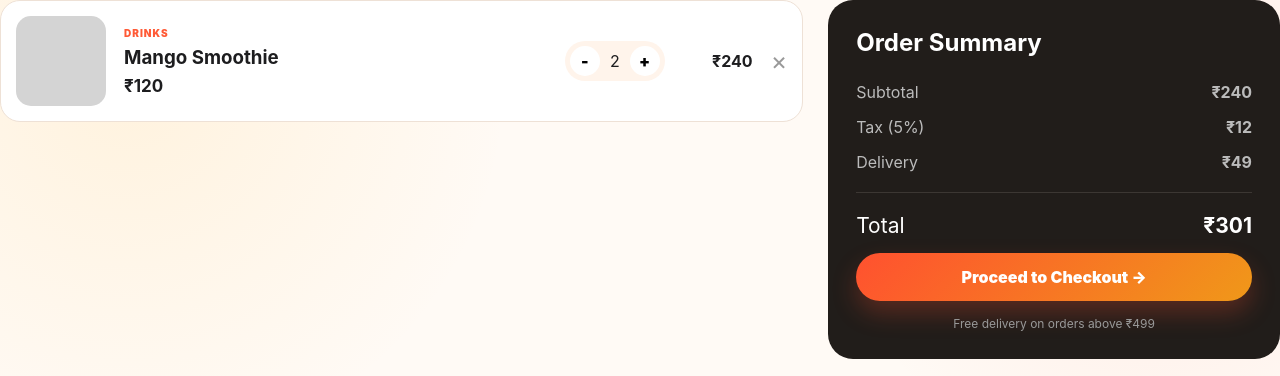
Test: Cart › renders cart food and removes it when requested
Expected: the heading "Mango Smoothie" is shown, x1=124 y1=46 x2=279 y2=68
Expected: the text with class "item-total" reads "₹240", x1=712 y1=51 x2=753 y2=71
Click the button named "Remove Mango Smoothie from cart": (779, 61) x1=771 y1=46 x2=787 y2=76
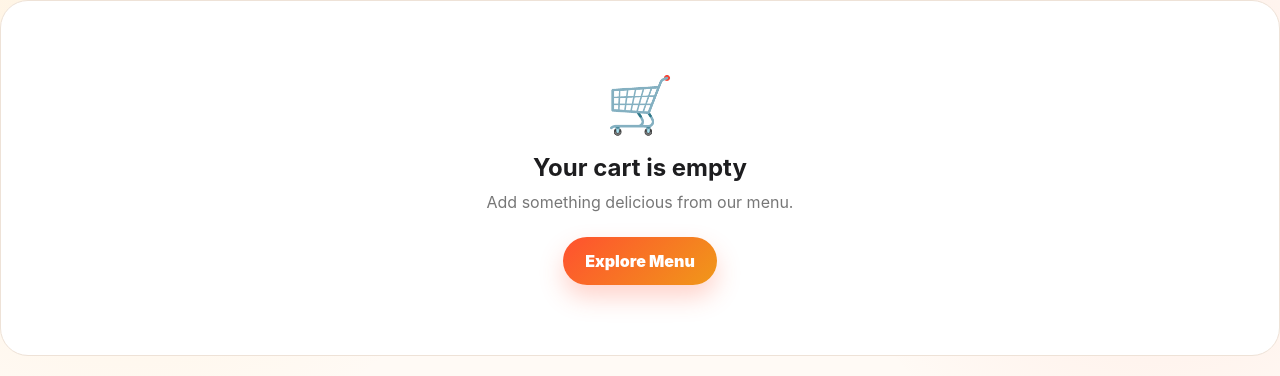
Expected: the heading "Your cart is empty" is shown, x1=533 y1=153 x2=747 y2=182
